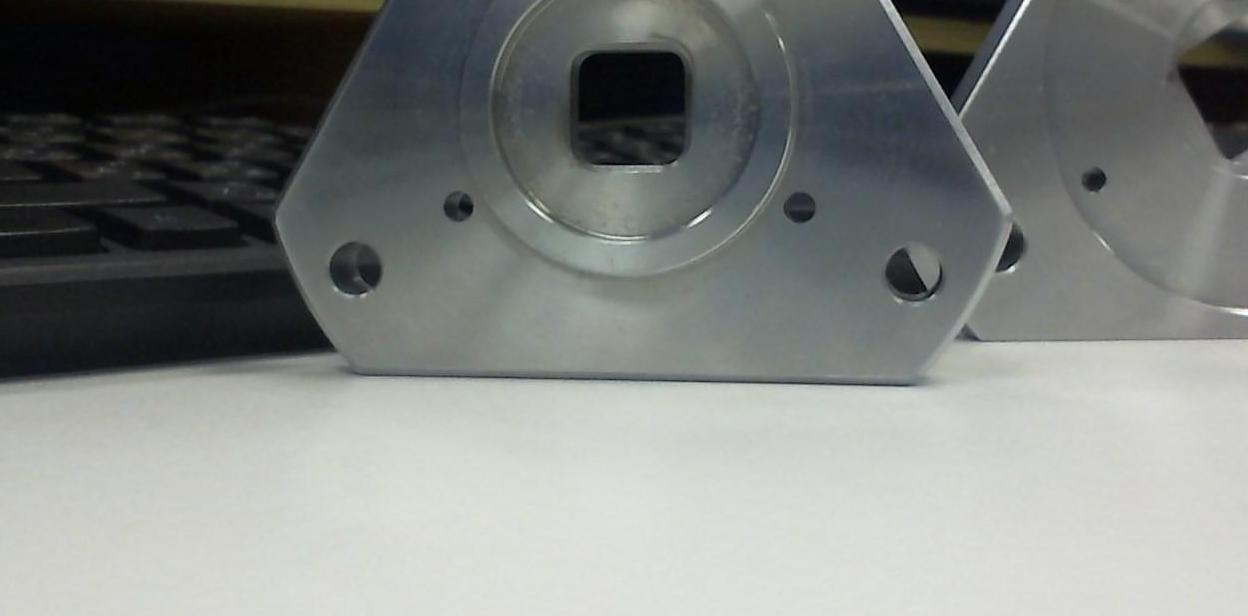hole: (883, 237, 949, 306), (324, 233, 388, 298)
